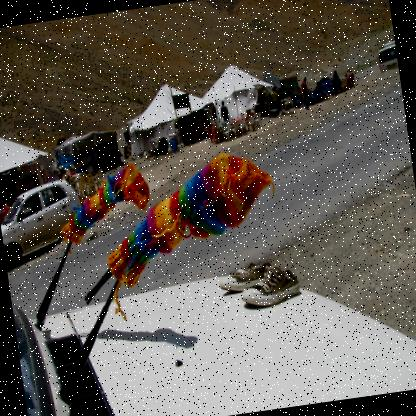Car: (0, 121, 415, 415), (0, 173, 89, 272), (375, 38, 398, 74)
